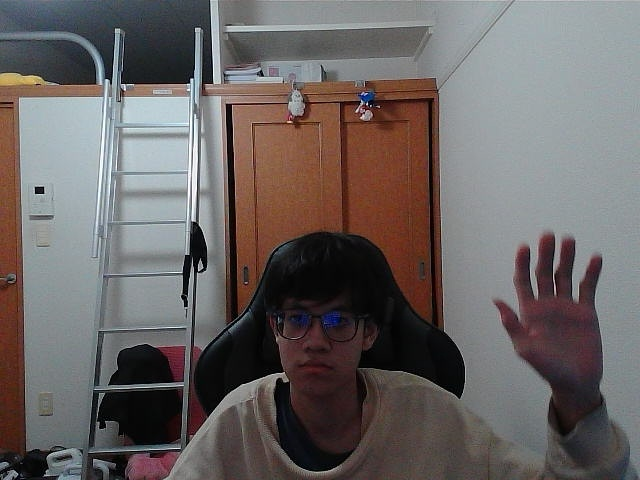open_palm: (502, 238, 597, 375)
